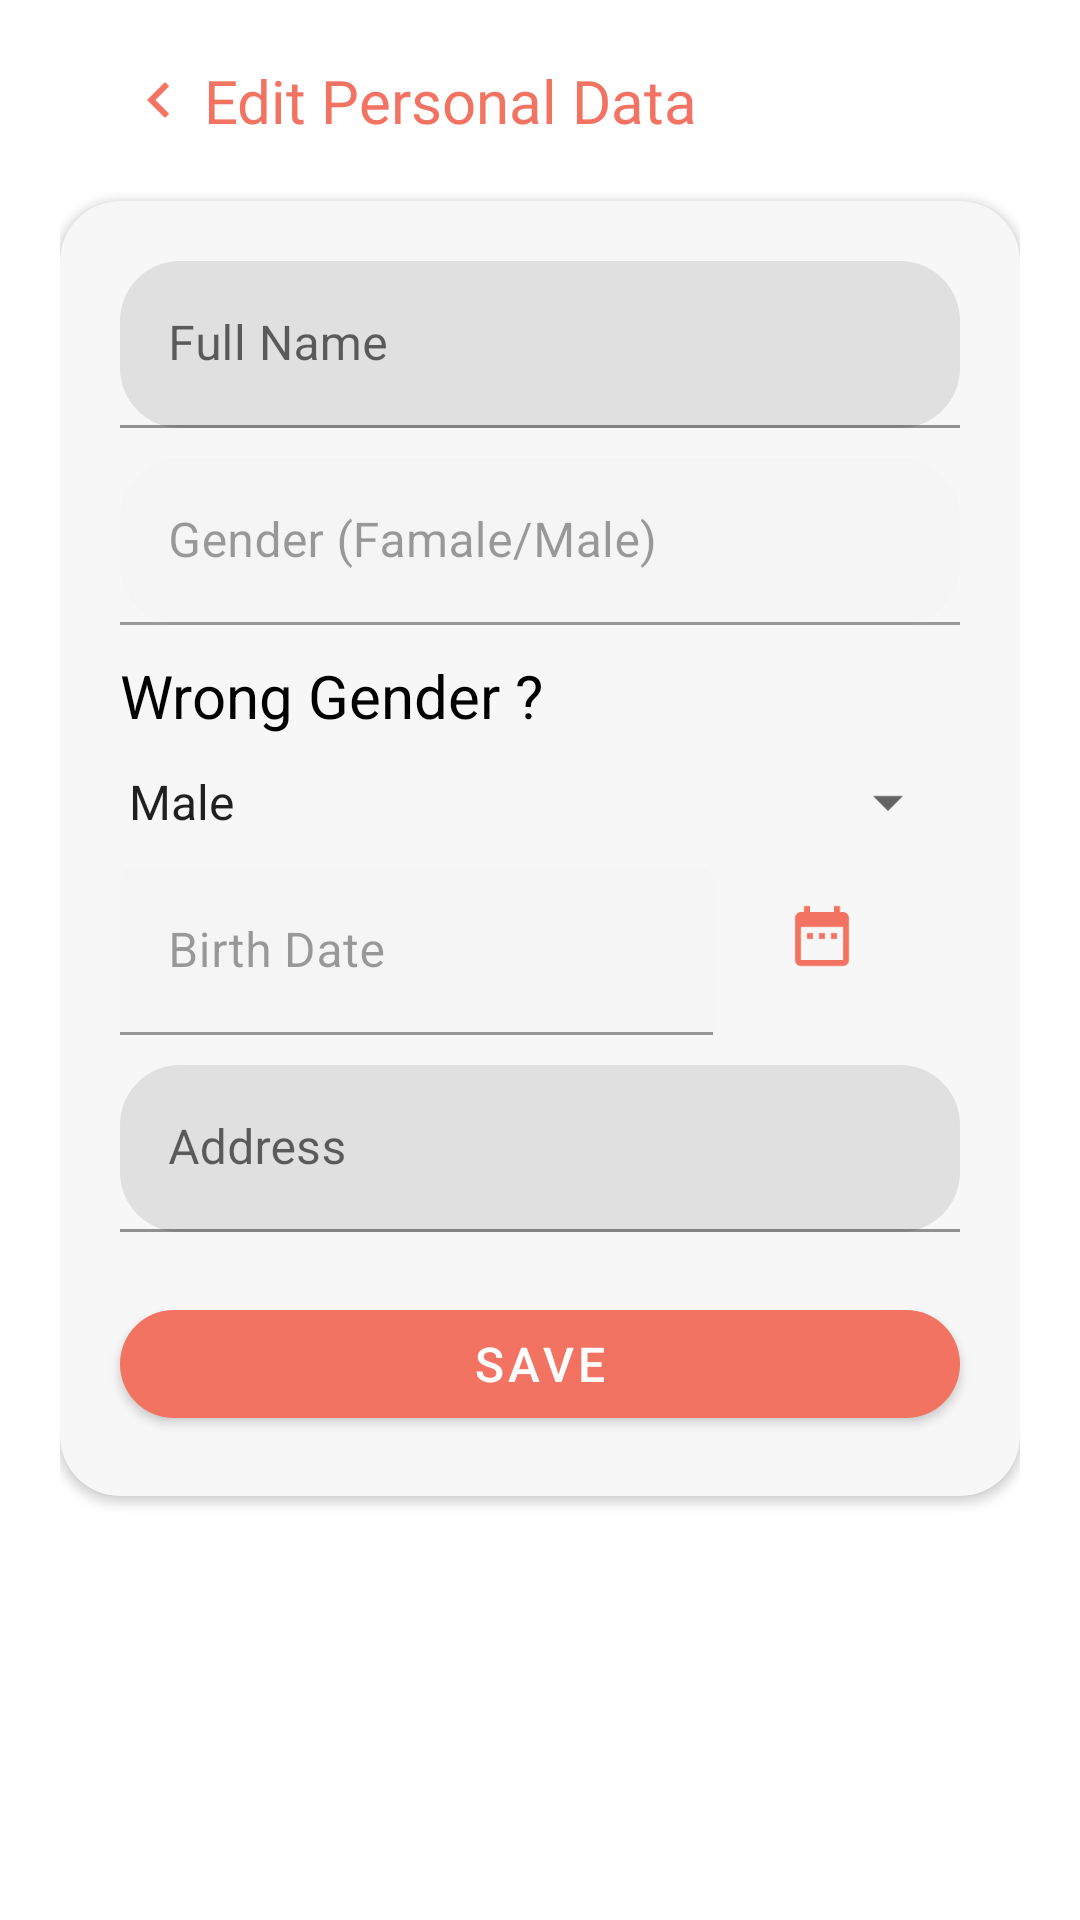

Screen size 1080×1920. Icon name, then its box in pixels as (x1, y1, x2, y2):
arrow left: (147, 82, 169, 118)
date range: (795, 905, 849, 967)
